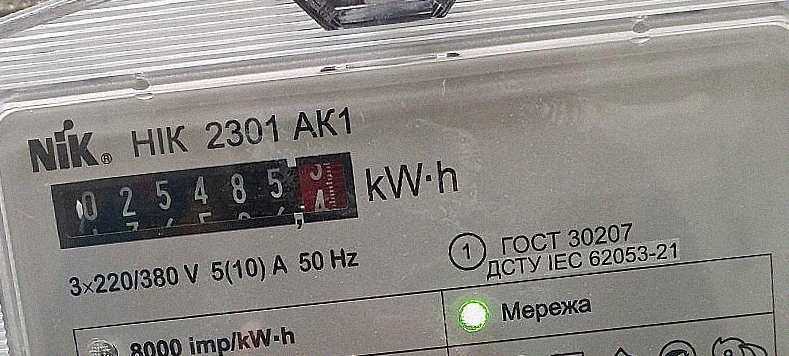0: (77, 185, 101, 222)
2: (115, 181, 139, 218)
4: (188, 171, 212, 207), (309, 184, 331, 214)
5: (262, 163, 287, 202), (151, 175, 175, 212)
8: (227, 167, 250, 207)
screen: (40, 142, 368, 261)
